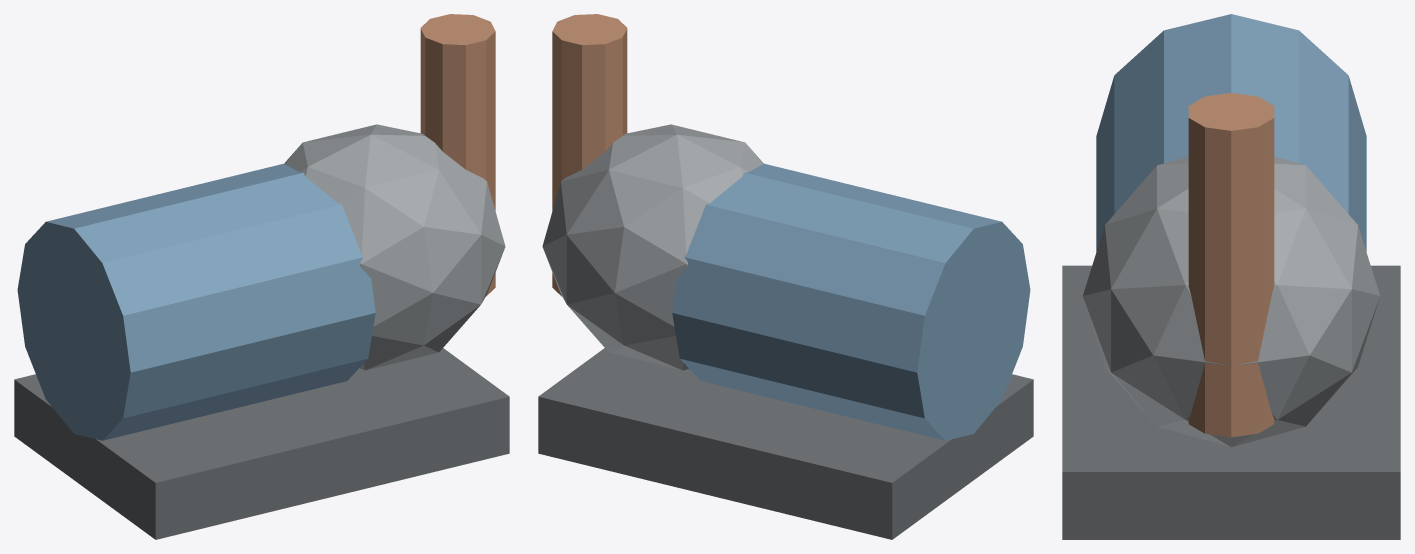
Rendered from pump_04.glb.
3 views of the same model, side by side, from view 1: azimuth 30°, elevation 25°; view 2: azimuth 150°, elevation 25°; view 3: azimuth 270°, elevation 25° (orthographic). The views are drawn at different scales.
Parts seen in each view (by area): view 1: motor, base, pump, pipe; view 2: motor, base, pump, pipe; view 3: base, pump, motor, pipe.
Part boxes in pixels (x1,y1,x2,y2): motor: (17, 163, 375, 440); base: (14, 348, 509, 539); pump: (284, 124, 505, 370); pipe: (420, 14, 495, 296); motor: (672, 163, 1030, 440); base: (538, 348, 1033, 539); pump: (542, 124, 763, 370); pipe: (552, 14, 627, 296); base: (1062, 265, 1400, 539); pump: (1083, 156, 1379, 447); motor: (1096, 14, 1366, 251); pipe: (1188, 93, 1274, 437).
Size of the model in its own units: 0.765 by 0.645 by 0.45.
